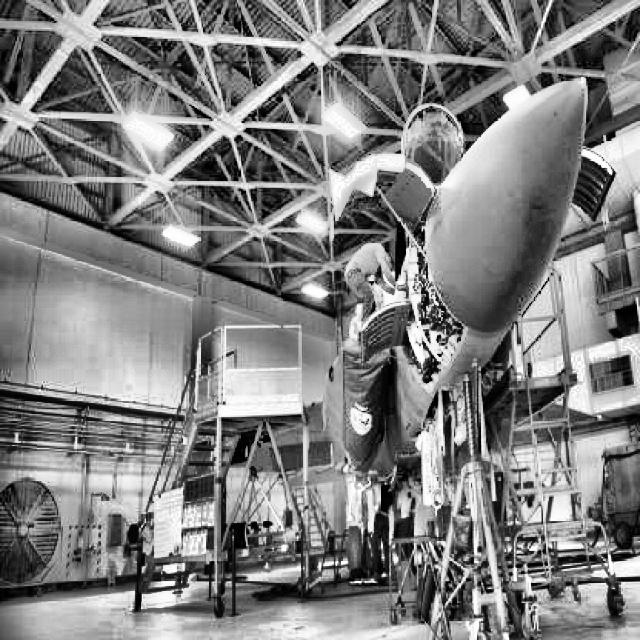F15: (229, 76, 617, 598)
